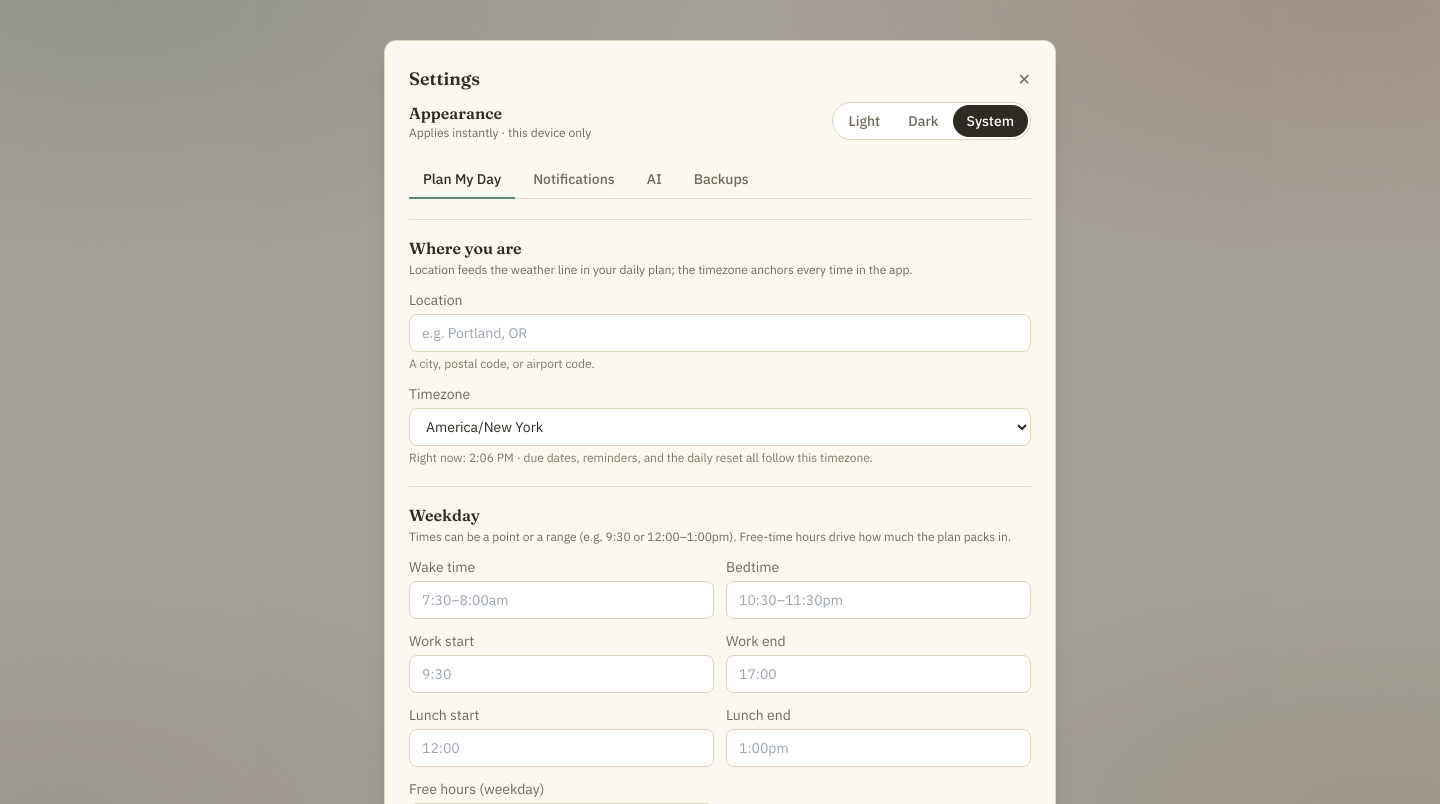
Test case: SettingsPanel — location confirmation › retires the confirmation the moment the location is edited
Type "Denver, CO" into the field labelled "Location" at (720, 333), box [409, 314, 1031, 352]
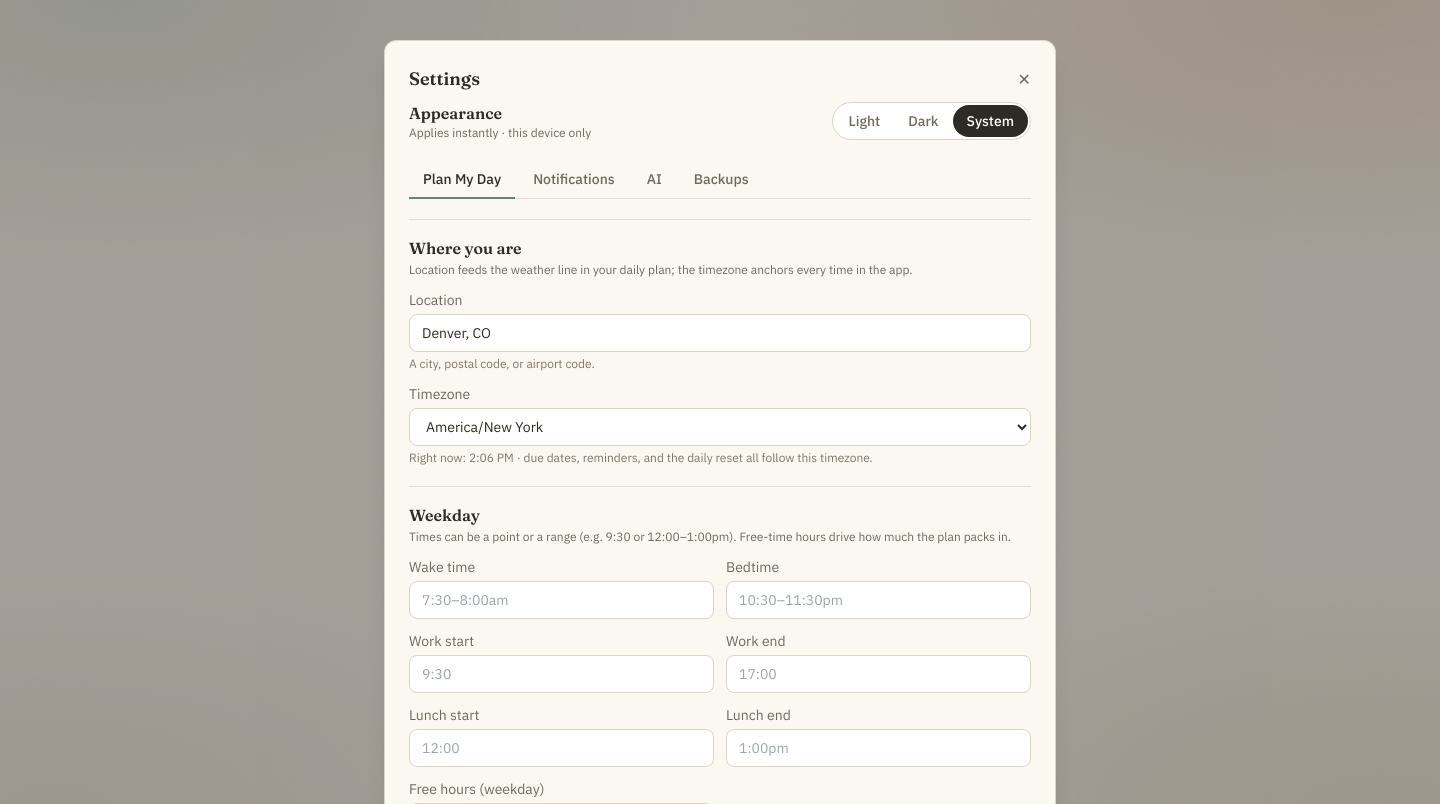
Leave the field labelled "Location", box [409, 314, 1031, 352]
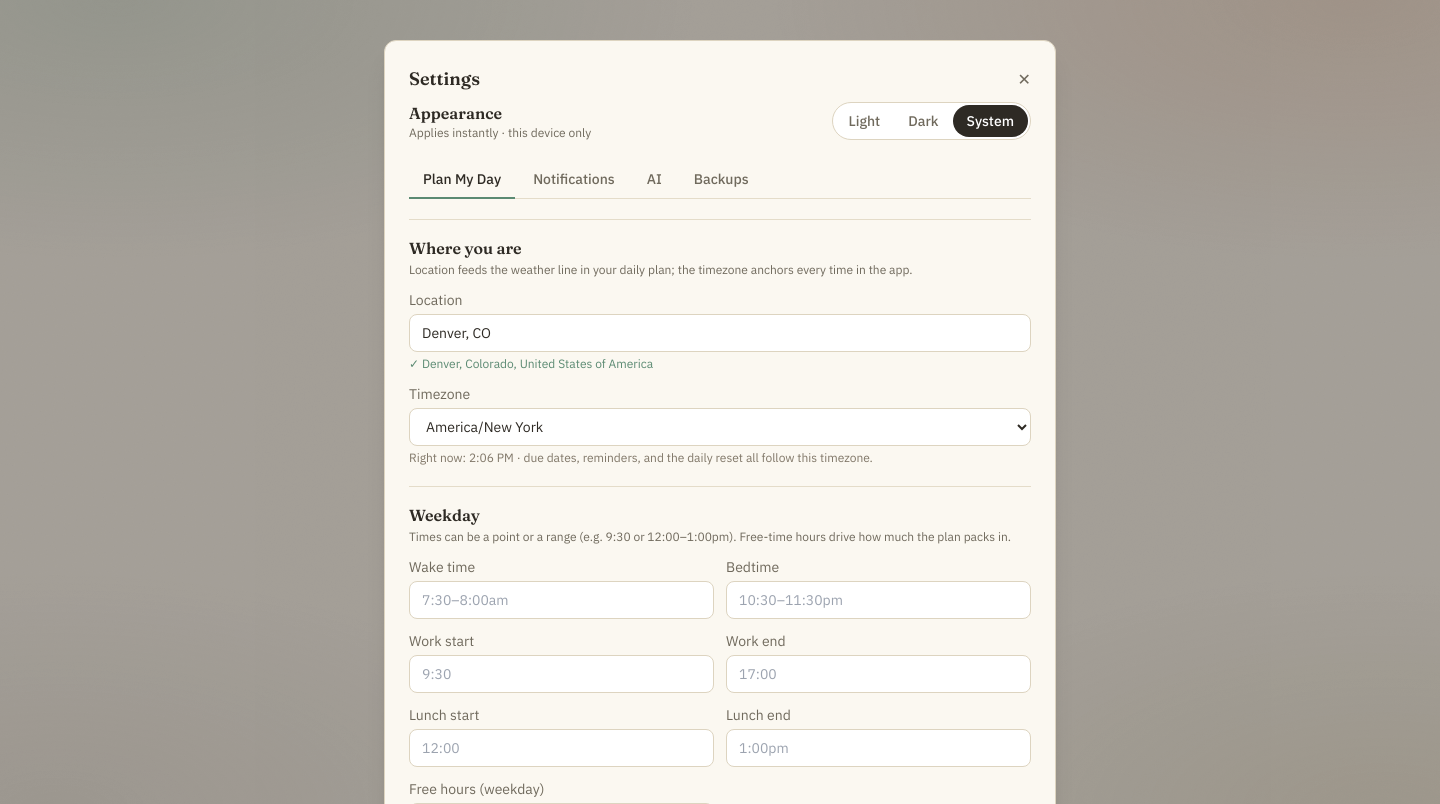
Result: the text "✓ Denver, Colorado, United States of America" is shown at [409, 356, 653, 371]
Replace the text in the field labelled "Location" with "Denver, C" at (720, 333), box [409, 314, 1031, 352]
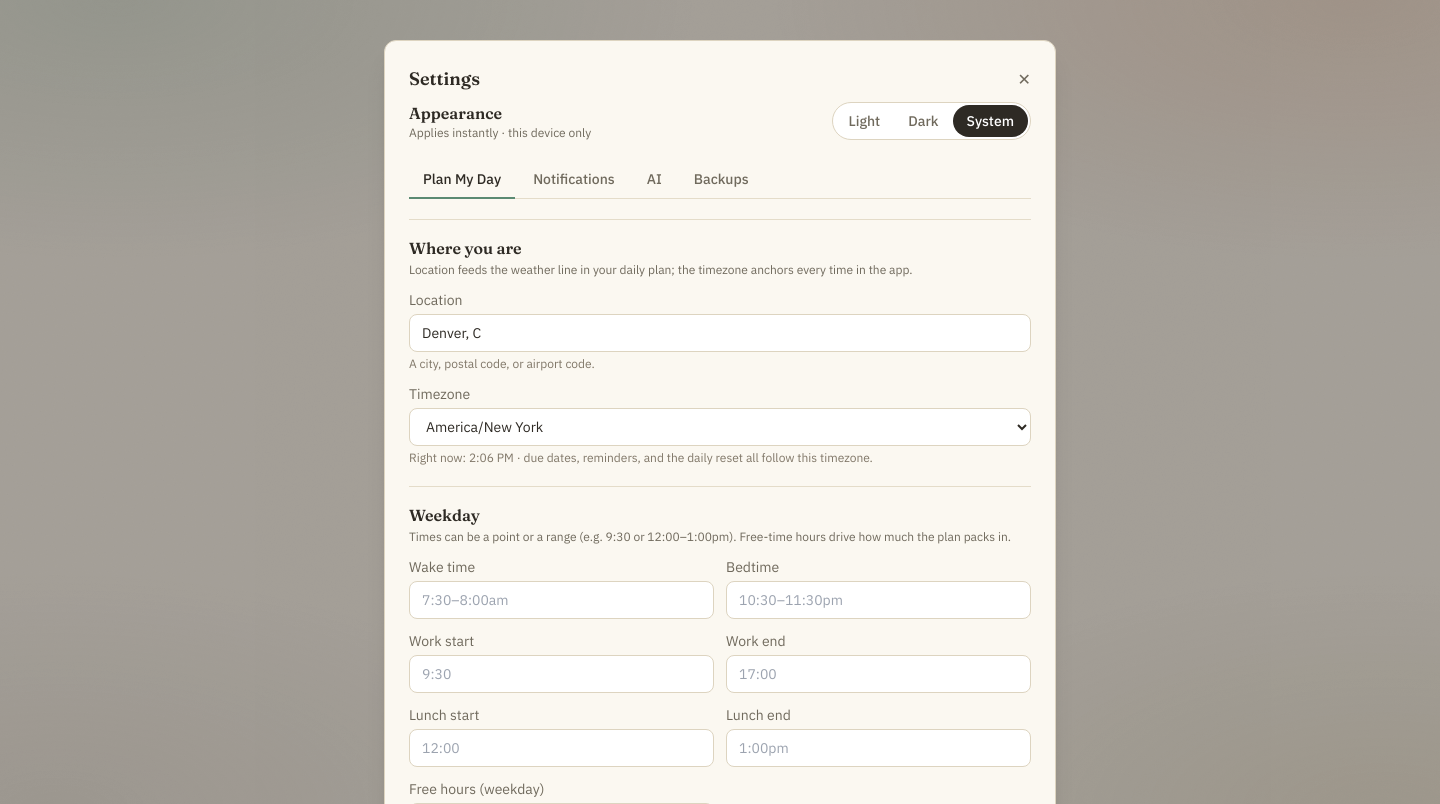
Result: the text "Denver, Colorado" is gone
Result: the text "A city, postal code, or airport code." is shown at [409, 356, 595, 371]
